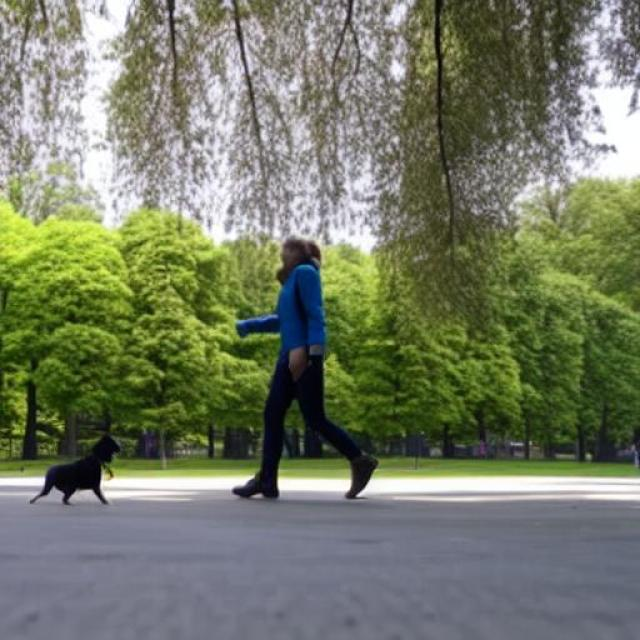Unleashed_Dog: (29, 348, 324, 507)
